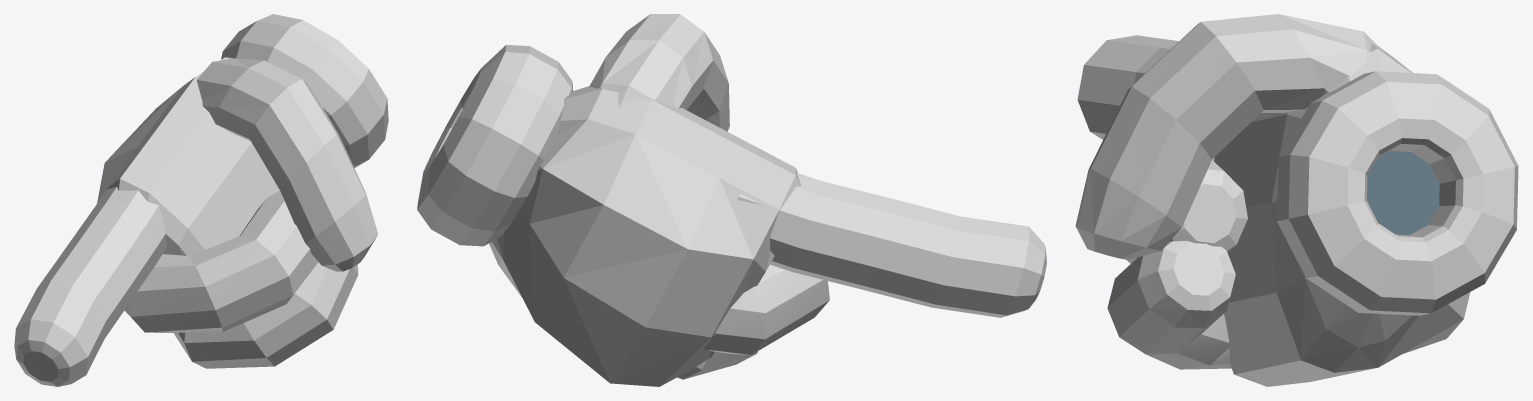
The picture shows the model from 3 angles, left to right: view 1: azimuth 30°, elevation 25°; view 2: azimuth 150°, elevation 25°; view 3: azimuth 270°, elevation 25°; orthographic projection. The views are drawn at different scales.
Visible parts, largest first — view 1: node_MeshObject1729276928-PolyPaper5; view 2: node_MeshObject1729276928-PolyPaper5; view 3: node_MeshObject1729276928-PolyPaper5.
Boxes of the visible parts, x1,y1,x2,y2 form: node_MeshObject1729276928-PolyPaper5: [14, 14, 388, 386]; node_MeshObject1729276928-PolyPaper5: [417, 14, 1046, 386]; node_MeshObject1729276928-PolyPaper5: [1075, 14, 1518, 386].
Size of the model in its own units: 0.3596 by 0.2183 by 0.2291.
